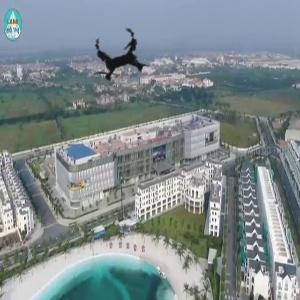drone: (67, 9, 172, 114)
